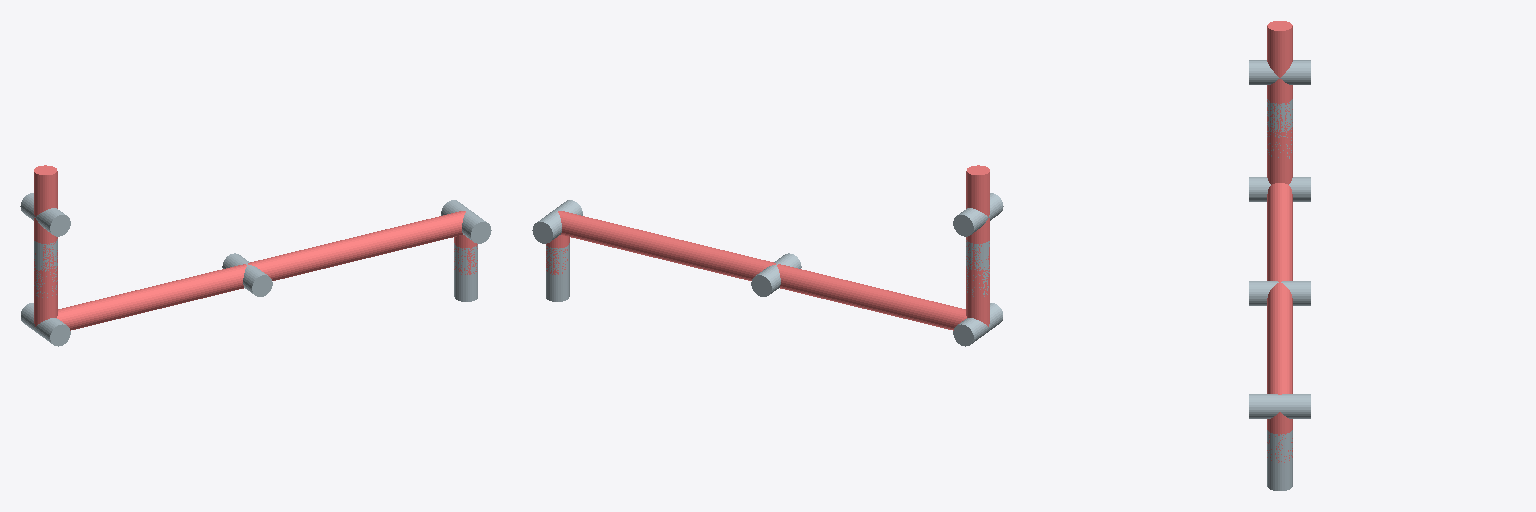
URDF robot description (GenericDH):
<robot name='GenericDH'>
	<material name='blue'>
		<color rgba='0 0 0.8 1'/>
	</material>
	<material name='red'>
		<color rgba='0.8 0 0 1'/>
	</material>
	<link name='a0'>
		<visual>
			<origin rpy='-0.0 0.0 0.0' xyz='0.0 0.0 0.0'/>
			<geometry>
				<cylinder length='0.1' radius='0.02'/>
			</geometry>
			<material name='blue'><color rgba='0.73 0.79 0.82 1'/></material>
		</visual>
	</link>
	<link name='l0'>
		<visual>
			<origin rpy='-0.0 0.0 0.0' xyz='0.0 0.0 0.0447295'/>
			<geometry>
				<cylinder length='0.089459' radius='0.02'/>
			</geometry>
			<material name='grey'><color rgba='0.99 0.54 0.54 1'/></material>
		</visual>
	</link>
	<joint name='move_l0_from_a0' type='continuous'>
		<parent link='a0'/>
		<child link='l0'/>
		<axis xyz='0.0 0.0 1.0'/>
		<origin rpy='0 0 0' xyz='0.0 0.0 0.0'/>
	</joint>
	<link name='a1'>
		<visual>
			<origin rpy='1.5707963267948966 0.0 0.0' xyz='0.0 0.0 0.089459'/>
			<geometry>
				<cylinder length='0.1' radius='0.02'/>
			</geometry>
			<material name='blue'><color rgba='0.73 0.79 0.82 1'/></material>
		</visual>
	</link>
	<joint name='fix_a1_to_l0' type='fixed'>
		<parent link='l0'/>
		<child link='a1'/>
		<origin rpy='0 0 0' xyz='0 0 0'/>
	</joint>
	<link name='l1'>
		<visual>
			<origin rpy='-0.0 -1.5707963267948963 0.0' xyz='-0.2125 -0.0 0.0'/>
			<geometry>
				<cylinder length='0.425' radius='0.02'/>
			</geometry>
			<material name='grey'><color rgba='0.99 0.54 0.54 1'/></material>
		</visual>
	</link>
	<joint name='move_l1_from_a1' type='continuous'>
		<parent link='a1'/>
		<child link='l1'/>
		<axis xyz='0.0 -1.0 0.0'/>
		<origin rpy='0 0 0' xyz='0.0 0.0 0.089459'/>
	</joint>
	<link name='a2'>
		<visual>
			<origin rpy='1.5707963267948966 0.0 0.0' xyz='-0.425 -0.0 0.0'/>
			<geometry>
				<cylinder length='0.1' radius='0.02'/>
			</geometry>
			<material name='blue'><color rgba='0.73 0.79 0.82 1'/></material>
		</visual>
	</link>
	<joint name='fix_a2_to_l1' type='fixed'>
		<parent link='l1'/>
		<child link='a2'/>
		<origin rpy='0 0 0' xyz='0 0 0'/>
	</joint>
	<link name='l2'>
		<visual>
			<origin rpy='-0.0 -1.5707963267948963 0.0' xyz='-0.196125 -0.0 0.0'/>
			<geometry>
				<cylinder length='0.39225' radius='0.02'/>
			</geometry>
			<material name='grey'><color rgba='0.99 0.54 0.54 1'/></material>
		</visual>
	</link>
	<joint name='move_l2_from_a2' type='continuous'>
		<parent link='a2'/>
		<child link='l2'/>
		<axis xyz='0.0 -1.0 0.0'/>
		<origin rpy='0 0 0' xyz='-0.425 -0.0 0.0'/>
	</joint>
	<link name='a3'>
		<visual>
			<origin rpy='1.5707963267948966 0.0 0.0' xyz='-0.39225 -0.0 0.0'/>
			<geometry>
				<cylinder length='0.1' radius='0.02'/>
			</geometry>
			<material name='blue'><color rgba='0.73 0.79 0.82 1'/></material>
		</visual>
	</link>
	<joint name='fix_a3_to_l2' type='fixed'>
		<parent link='l2'/>
		<child link='a3'/>
		<origin rpy='0 0 0' xyz='0 0 0'/>
	</joint>
	<link name='l3'>
		<visual>
			<origin rpy='-0.0 0.0 0.0' xyz='0.0 0.0 0.054575'/>
			<geometry>
				<cylinder length='0.10915' radius='0.02'/>
			</geometry>
			<material name='grey'><color rgba='0.99 0.54 0.54 1'/></material>
		</visual>
	</link>
	<joint name='move_l3_from_a3' type='continuous'>
		<parent link='a3'/>
		<child link='l3'/>
		<axis xyz='0.0 -1.0 0.0'/>
		<origin rpy='0 0 0' xyz='-0.39225 -0.0 0.0'/>
	</joint>
	<link name='a4'>
		<visual>
			<origin rpy='3.141592653589793 0.0 0.0' xyz='0.0 0.0 0.10915'/>
			<geometry>
				<cylinder length='0.1' radius='0.02'/>
			</geometry>
			<material name='blue'><color rgba='0.73 0.79 0.82 1'/></material>
		</visual>
	</link>
	<joint name='fix_a4_to_l3' type='fixed'>
		<parent link='l3'/>
		<child link='a4'/>
		<origin rpy='0 0 0' xyz='0 0 0'/>
	</joint>
	<link name='l4'>
		<visual>
			<origin rpy='-0.0 0.0 0.0' xyz='0.0 0.0 0.047325'/>
			<geometry>
				<cylinder length='0.09465' radius='0.02'/>
			</geometry>
			<material name='grey'><color rgba='0.99 0.54 0.54 1'/></material>
		</visual>
	</link>
	<joint name='move_l4_from_a4' type='continuous'>
		<parent link='a4'/>
		<child link='l4'/>
		<axis xyz='0.0 -1.2246467991473532e-16 -1.0'/>
		<origin rpy='0 0 0' xyz='0.0 0.0 0.10915'/>
	</joint>
	<link name='a5'>
		<visual>
			<origin rpy='1.5707963267948966 0.0 0.0' xyz='0.0 0.0 0.09465'/>
			<geometry>
				<cylinder length='0.1' radius='0.02'/>
			</geometry>
			<material name='blue'><color rgba='0.73 0.79 0.82 1'/></material>
		</visual>
	</link>
	<joint name='fix_a5_to_l4' type='fixed'>
		<parent link='l4'/>
		<child link='a5'/>
		<origin rpy='0 0 0' xyz='0 0 0'/>
	</joint>
	<link name='l5'>
		<visual>
			<origin rpy='-0.0 0.0 0.0' xyz='0.0 0.0 0.04115'/>
			<geometry>
				<cylinder length='0.0823' radius='0.02'/>
			</geometry>
			<material name='grey'><color rgba='0.99 0.54 0.54 1'/></material>
		</visual>
	</link>
	<joint name='move_l5_from_a5' type='continuous'>
		<parent link='a5'/>
		<child link='l5'/>
		<axis xyz='0.0 -1.0 0.0'/>
		<origin rpy='0 0 0' xyz='0.0 0.0 0.09465'/>
	</joint>
</robot>

--- Facts derived from the render (not from the file) ---
3 views of the same robot in one strip: view 1: azimuth 30°, elevation 25°; view 2: azimuth 150°, elevation 25°; view 3: azimuth 270°, elevation 25° (orthographic).
Robot: GenericDH — 12 links, 11 joints (6 continuous, 5 fixed); root link a0; default pose: all joints at 0.
Links seen in each view (by area): view 1: l1, l2, a0, l3, l5, a3, a5, a1, a2, a4; view 2: l1, l2, a0, l3, l5, a3, a5, a1, a2, a4; view 3: l1, l2, a1, a0, l3, l5, a5, a2, a3, l4, a4.
Link boxes in pixels (x1,y1,x2,y2): l1: (248, 211, 465, 280); l2: (57, 264, 246, 330); a0: (454, 243, 477, 301); l3: (34, 266, 57, 326); l5: (34, 165, 57, 216); a3: (21, 303, 70, 346); a5: (20, 193, 70, 236); a1: (441, 200, 491, 243); a2: (222, 253, 272, 296); a4: (34, 239, 57, 297); l1: (558, 211, 775, 280); l2: (777, 264, 966, 330); a0: (546, 243, 569, 301); l3: (966, 266, 989, 326); l5: (966, 165, 989, 216); a3: (953, 303, 1002, 346); a5: (953, 193, 1003, 236); a1: (532, 200, 582, 243); a2: (751, 253, 801, 296); a4: (966, 240, 989, 296); l1: (1267, 282, 1292, 394); l2: (1267, 183, 1292, 281); a1: (1249, 394, 1310, 418); a0: (1267, 430, 1292, 490); l3: (1267, 127, 1292, 184); l5: (1267, 21, 1292, 77); a5: (1249, 60, 1310, 84); a2: (1249, 281, 1310, 305); a3: (1249, 177, 1310, 201); l4: (1267, 79, 1292, 131); a4: (1267, 99, 1292, 158).
Size in the robot's own frame: 0.8572 by 0.1 by 0.4256 metres.
Geometry: primitives only (box / cylinder / sphere), no mesh files.